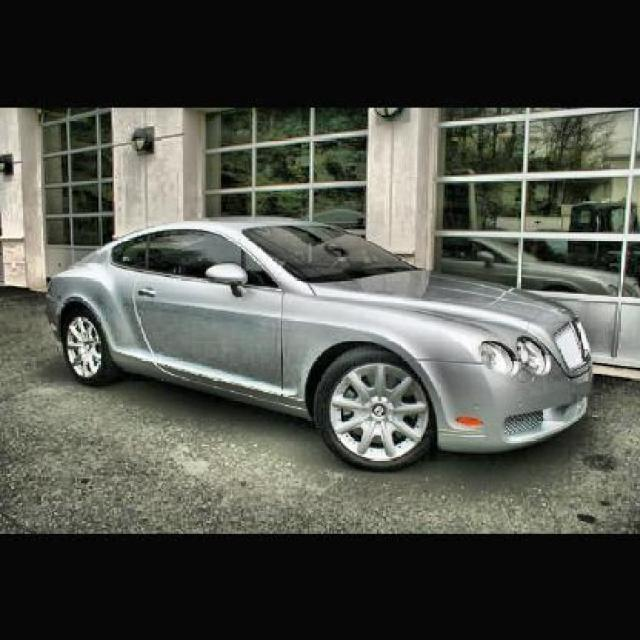silver: (50, 216, 592, 462)
